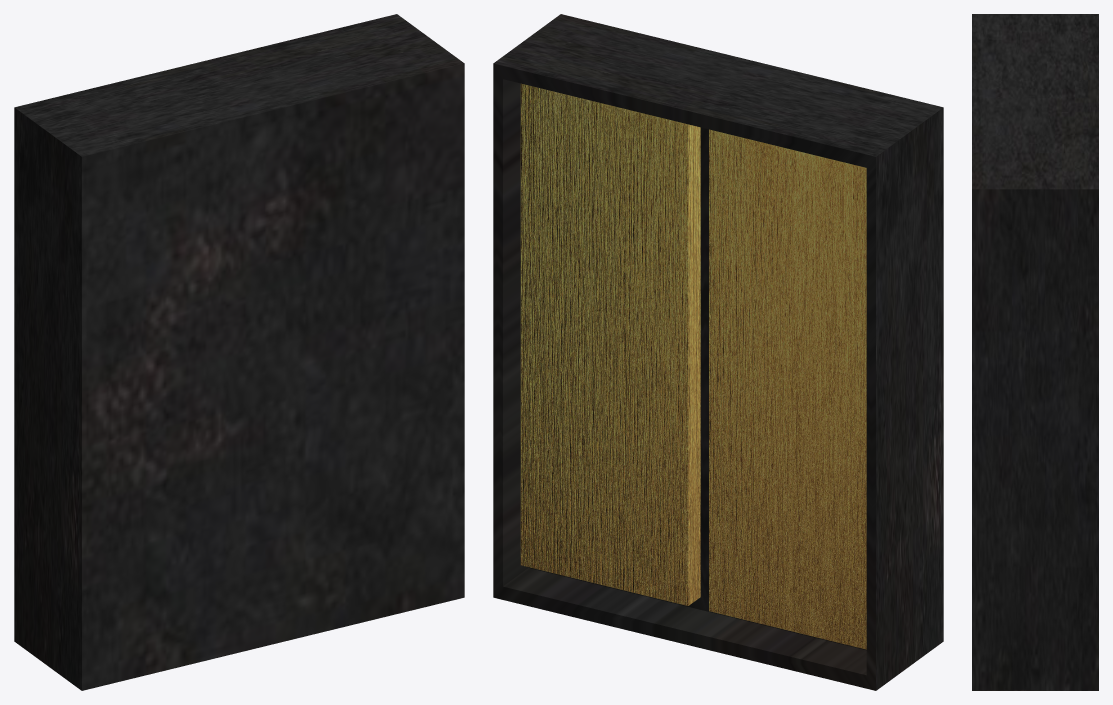
Rendered from Elevator.fbx.
3 renders of one model, left to right at view 1: azimuth 30°, elevation 25°; view 2: azimuth 150°, elevation 25°; view 3: azimuth 270°, elevation 25°, orthographic. The views are drawn at different scales.
Parts seen in each view (by area): view 1: pCube15; view 2: pCube15; view 3: pCube15.
Part boxes in pixels (left/top/right/bottom): pCube15: left=14, top=14, right=464, bottom=690; pCube15: left=493, top=14, right=943, bottom=690; pCube15: left=972, top=14, right=1098, bottom=690.
Bounding box in the file's own units: 21.35 × 28.47 × 6.53.
Materials: 2 (2 with a texture image).
